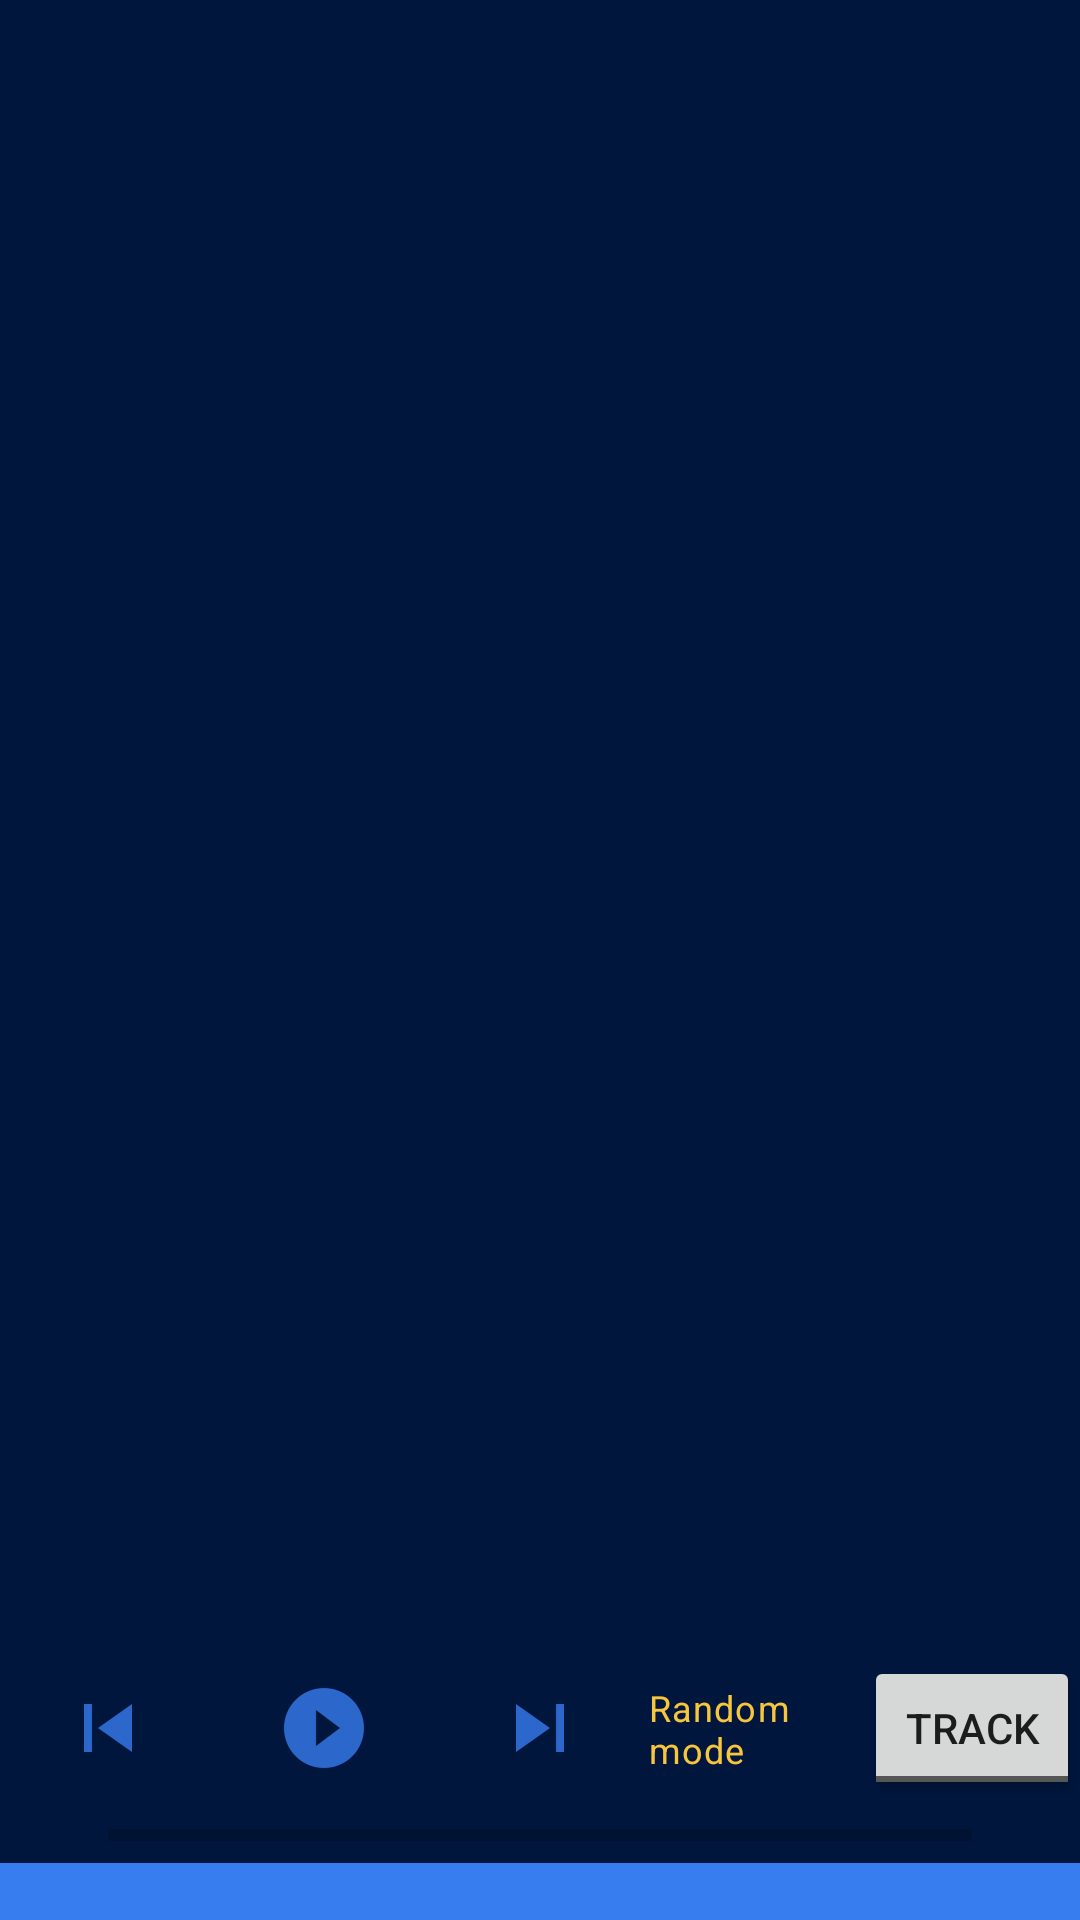

Where to tap for icons on this 1080 x 1920 app screen, as (x,y):
play: (324,1728)
rewind: (108,1728)
skip: (540,1728)
